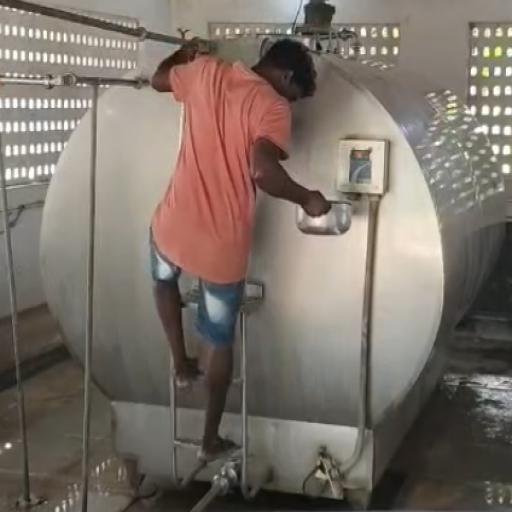silo: (34, 28, 506, 503)
vessel: (295, 199, 354, 237)
